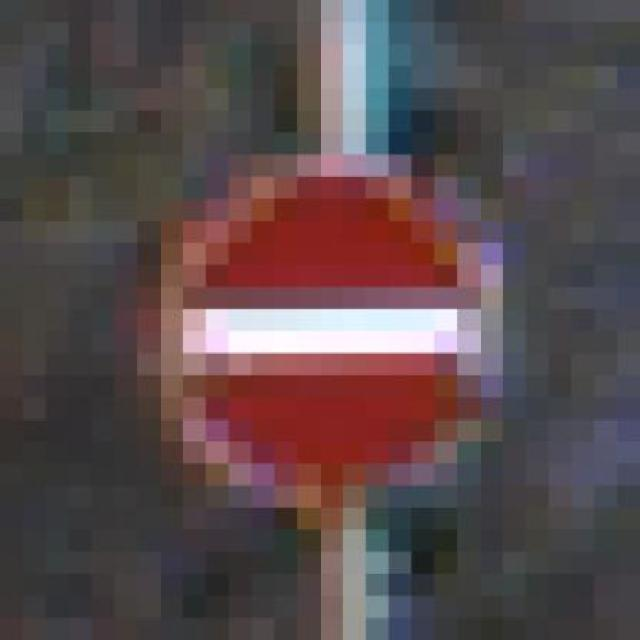No Entry: (88, 152, 523, 528)
